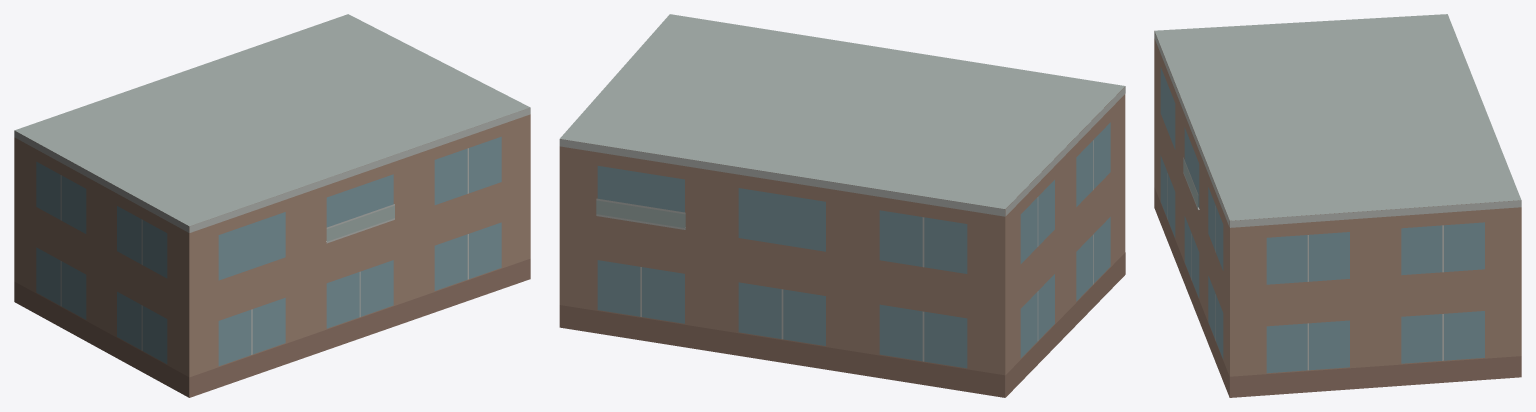
Rendered from survey-upis-32958154.glb.
The picture shows the model from 3 angles, left to right: view 1: azimuth 30°, elevation 25°; view 2: azimuth 150°, elevation 25°; view 3: azimuth 270°, elevation 25°; orthographic projection. The views are drawn at different scales.
Parts seen in each view (by area): view 1: survey-upis-32958154.tmp; view 2: survey-upis-32958154.tmp; view 3: survey-upis-32958154.tmp.
Boxes of the visible parts, x1=… form: survey-upis-32958154.tmp: x1=14, y1=14, x2=530, y2=397; survey-upis-32958154.tmp: x1=559, y1=14, x2=1125, y2=397; survey-upis-32958154.tmp: x1=1154, y1=14, x2=1521, y2=397.
Bounding box in the file's own units: 15.29 × 6.1 × 11.47.
